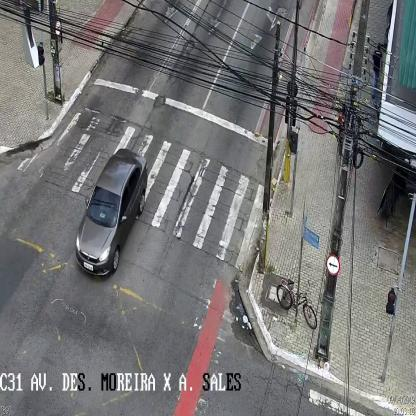bicycle: (277, 277, 317, 329)
car: (75, 150, 147, 276)
person: (372, 42, 380, 106)
